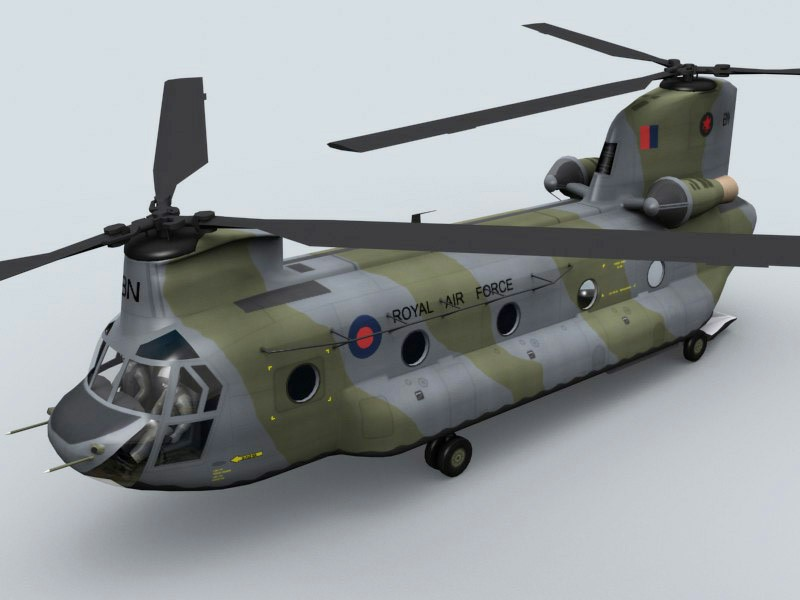chinook: (19, 31, 800, 488)
